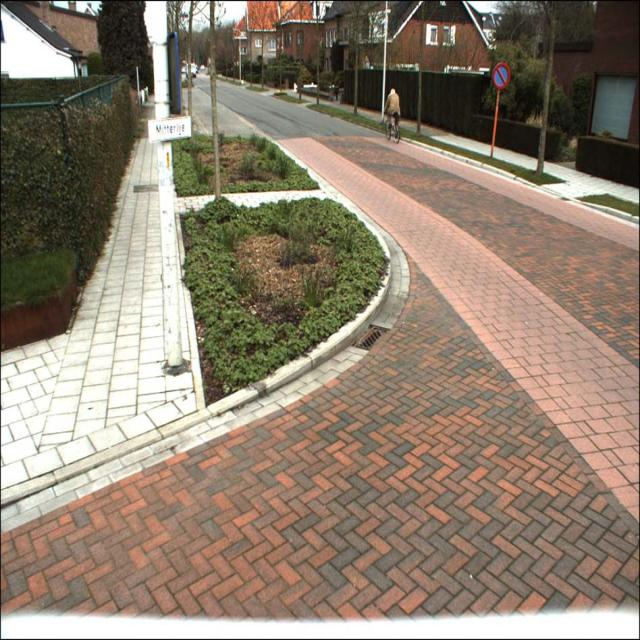parkyasak: (493, 63, 510, 89)
